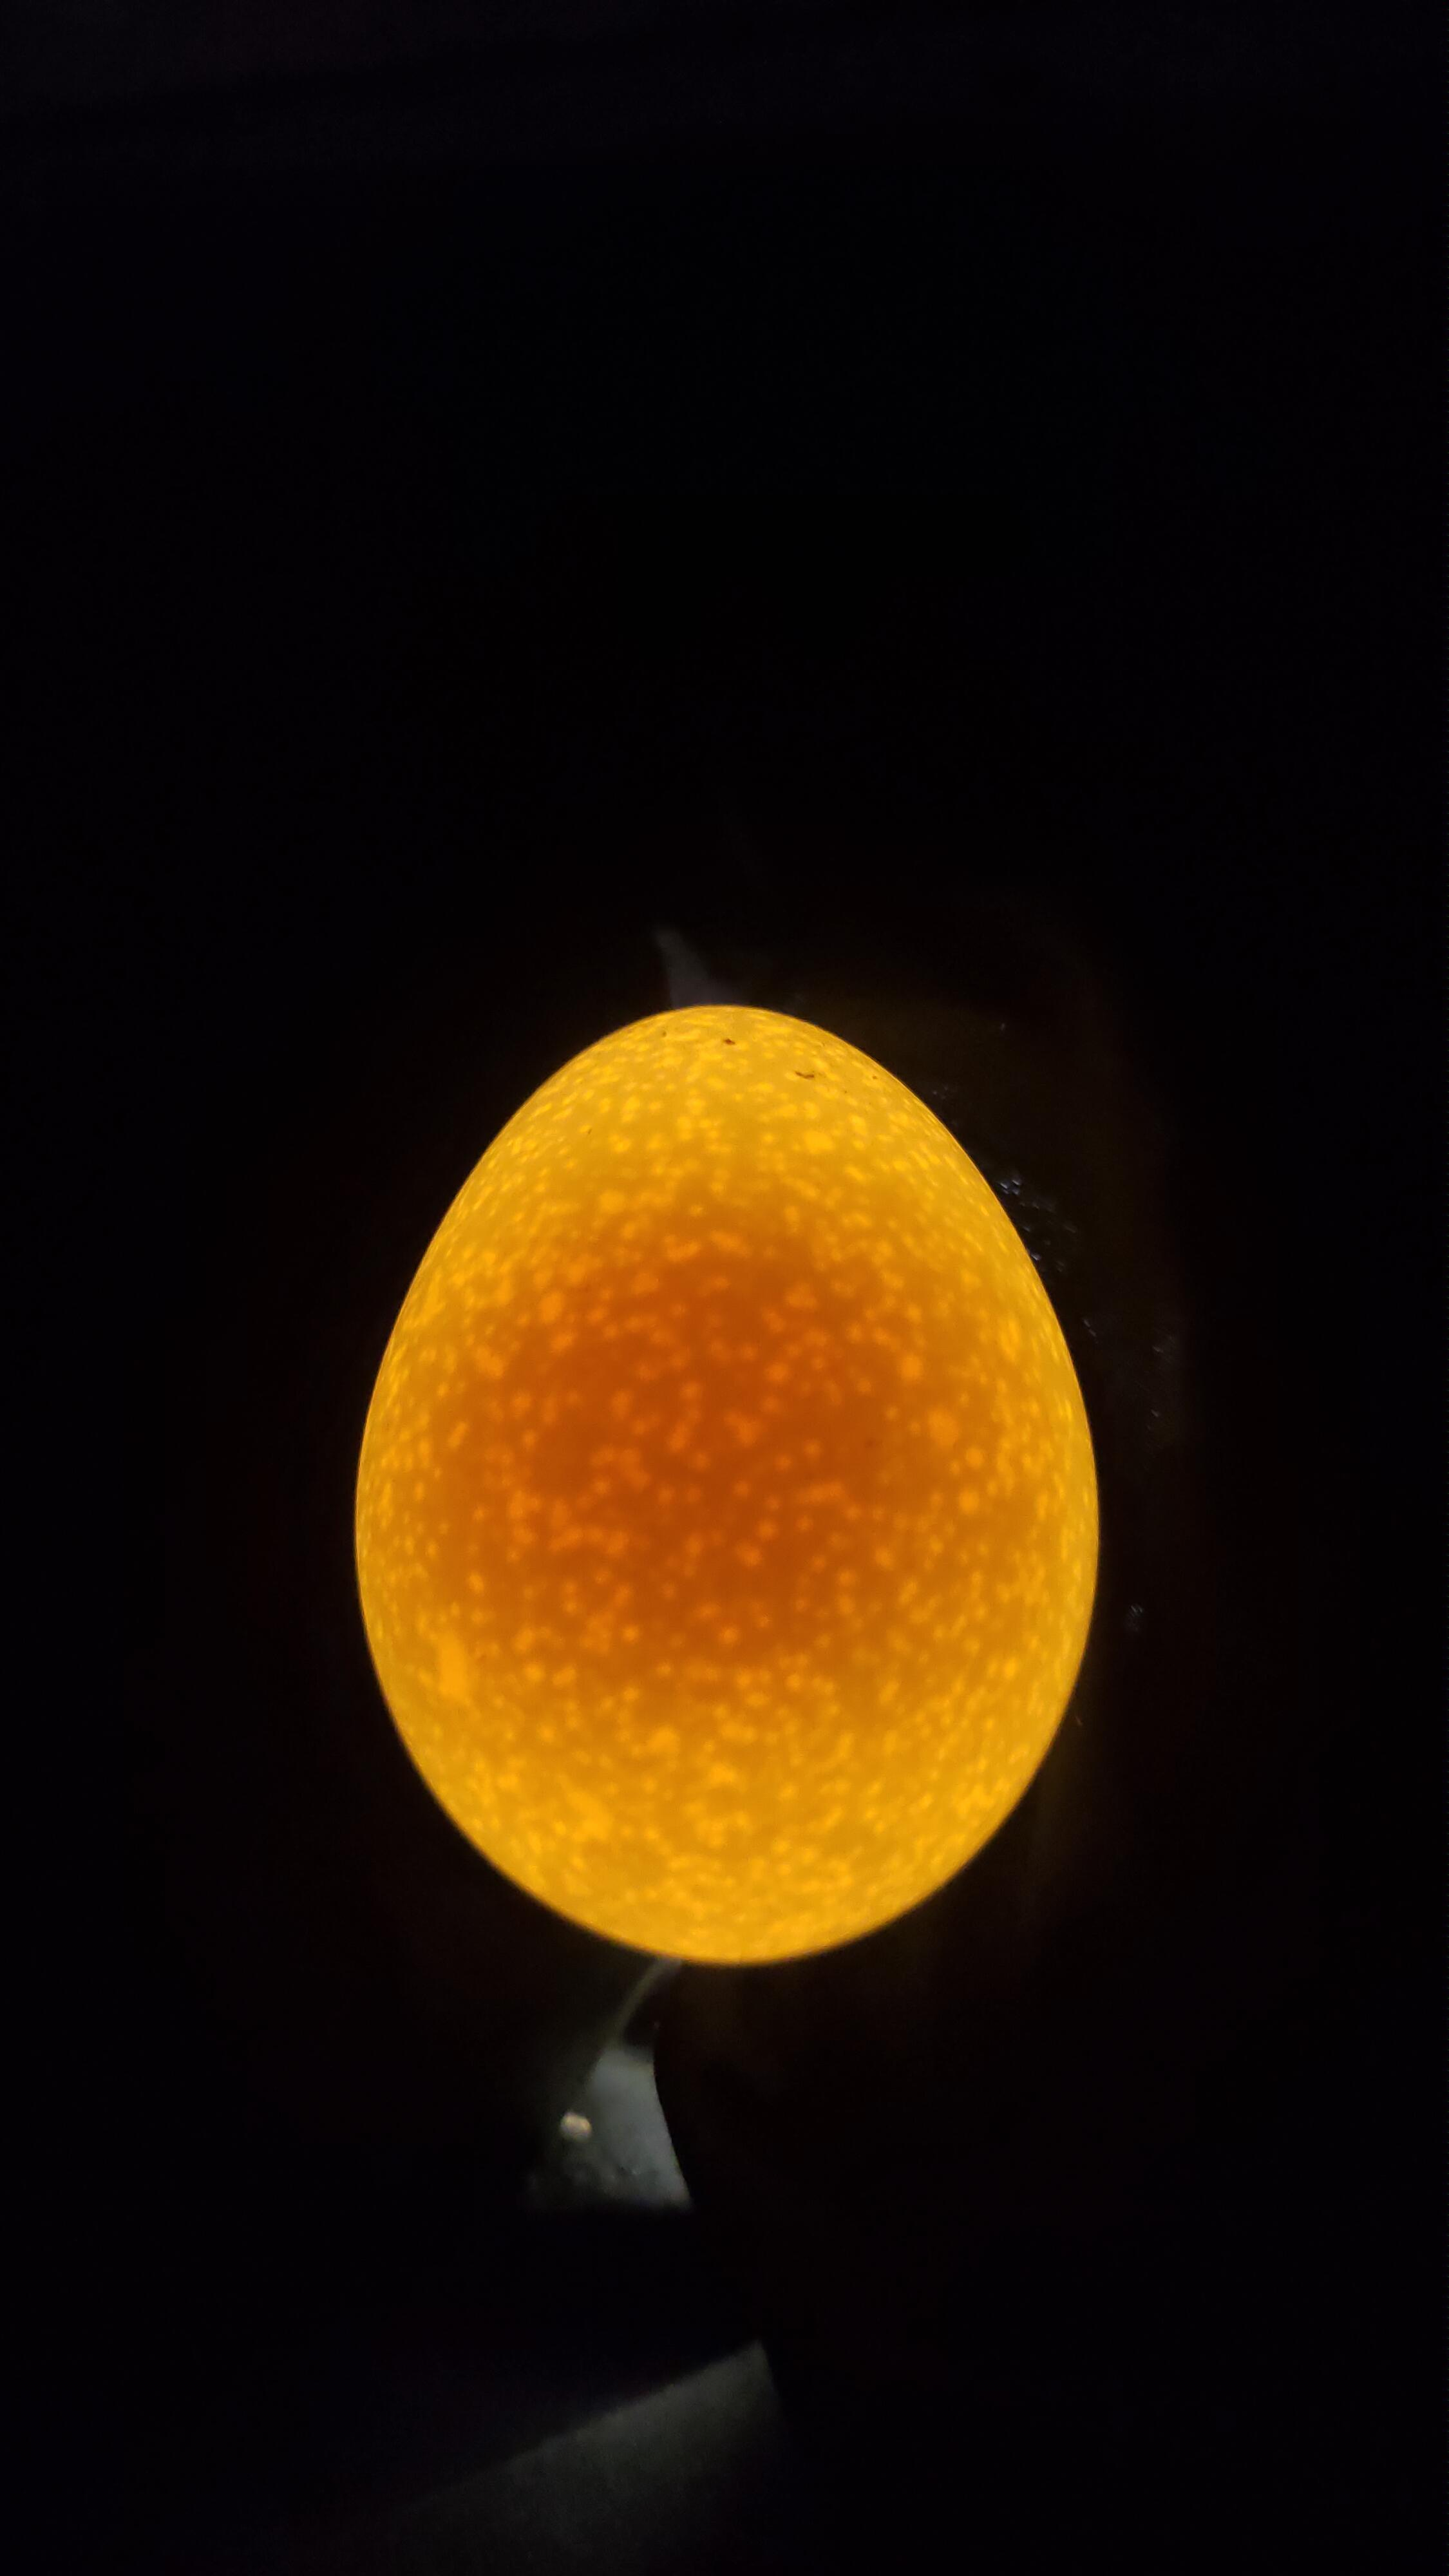A - Good: (322, 954, 1127, 2003)
